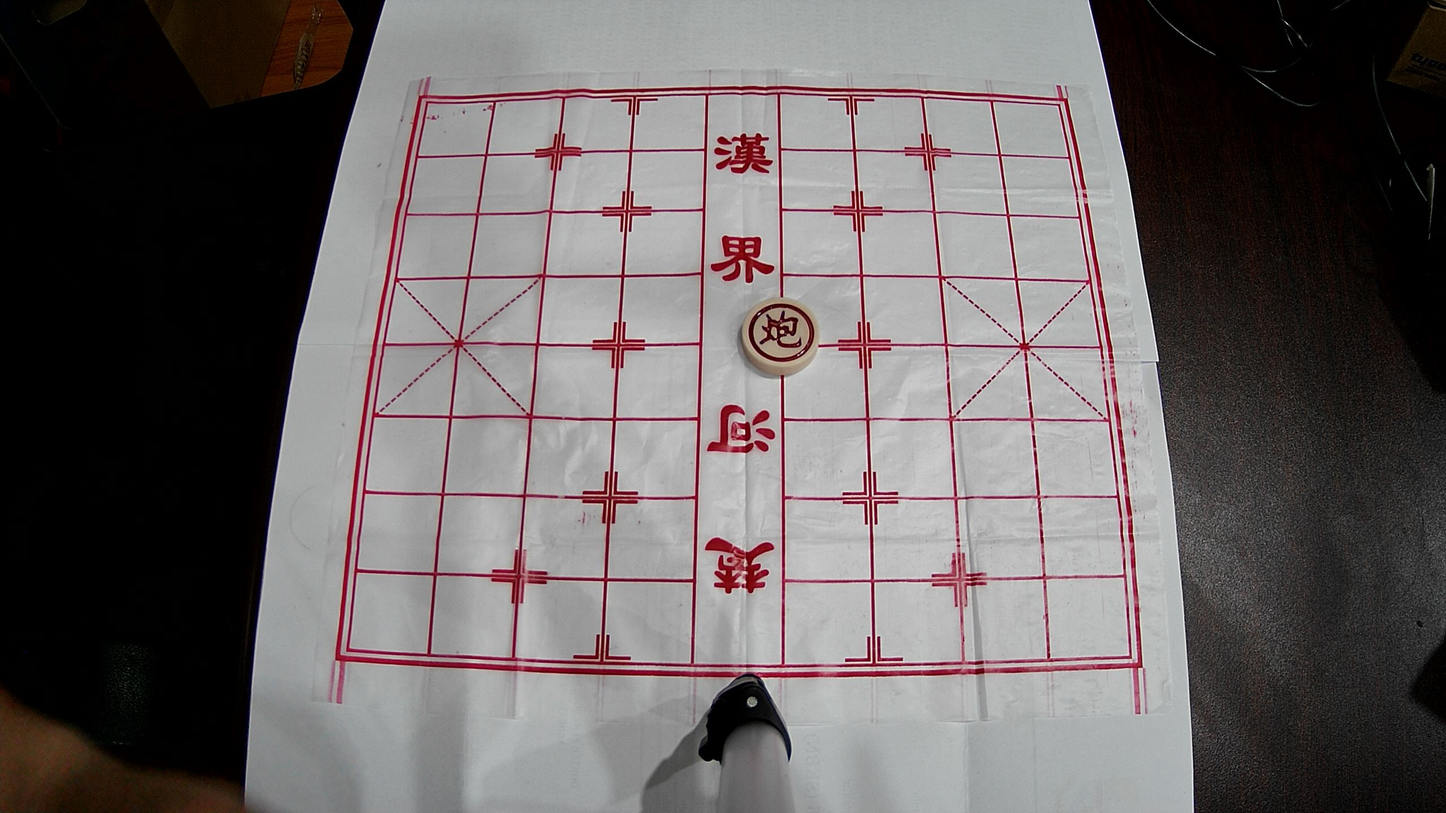Red-Cannon: (742, 298, 819, 375)
